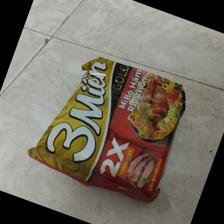3mien: (26, 55, 187, 204)
